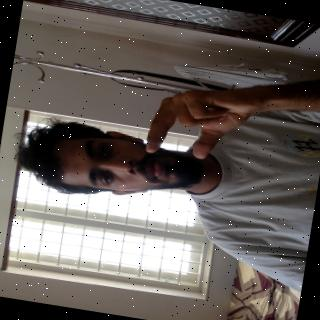No: (118, 49, 298, 185)
